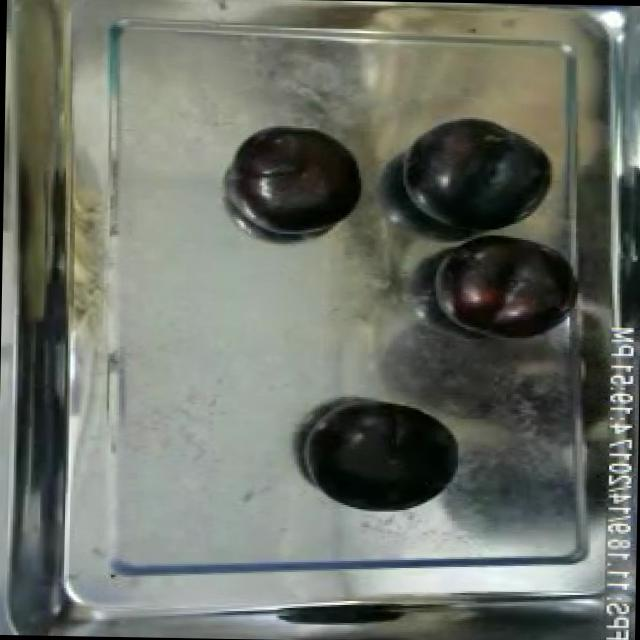Fruit: (297, 392, 467, 520), (391, 113, 557, 240), (426, 230, 580, 342), (227, 120, 368, 240)
